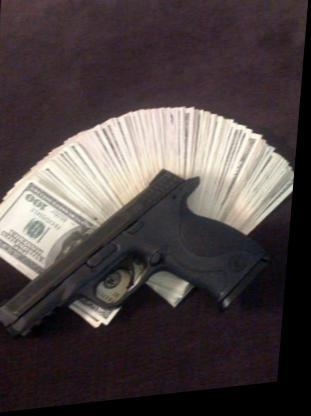pistol: (0, 162, 274, 348)
